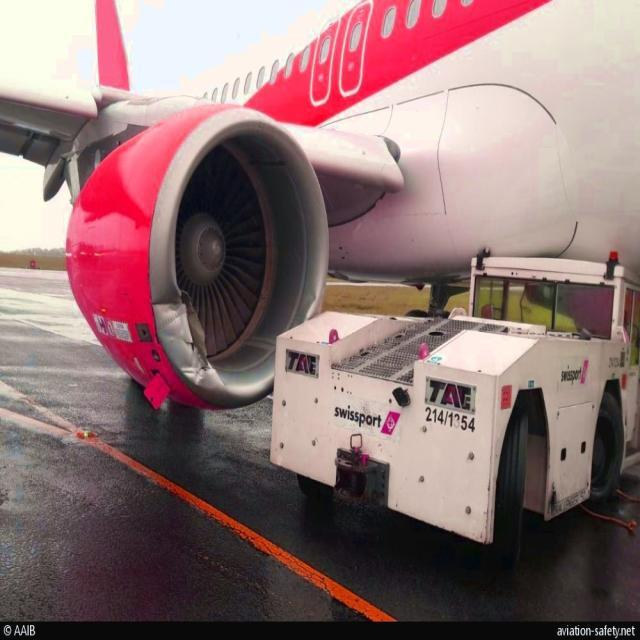crack: (180, 290, 211, 373)
dent: (154, 290, 184, 339), (178, 360, 205, 387), (304, 290, 325, 317)
